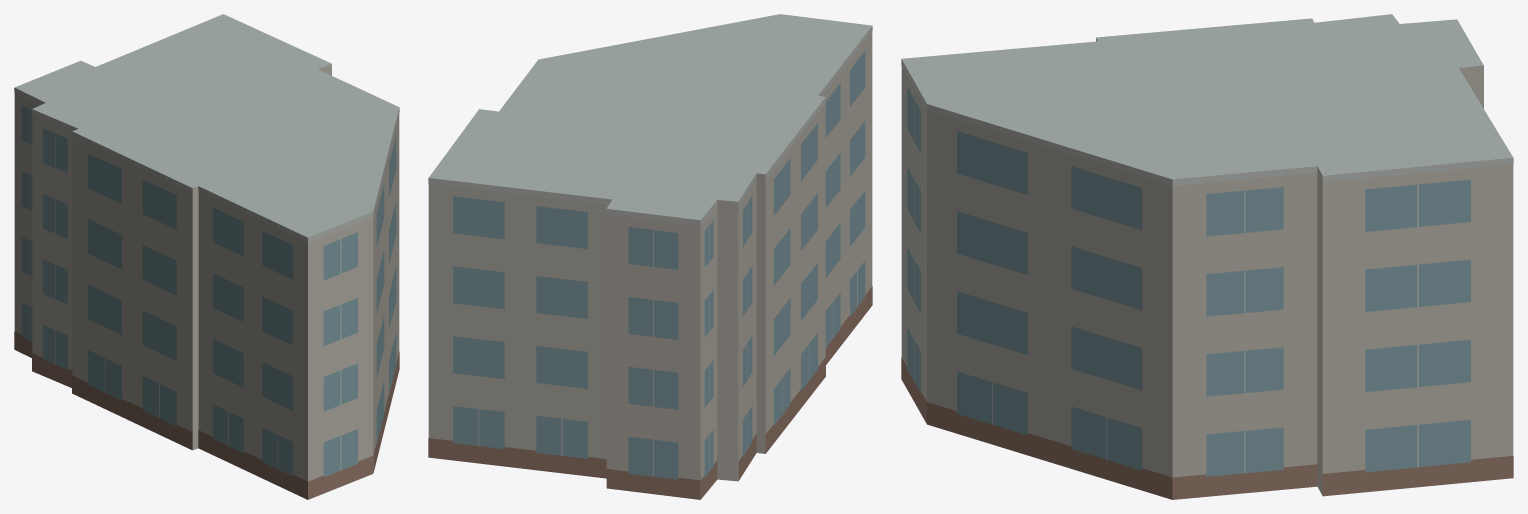
Rendered from survey-upis-32813386.glb.
The picture shows the model from 3 angles, left to right: view 1: azimuth 30°, elevation 25°; view 2: azimuth 150°, elevation 25°; view 3: azimuth 270°, elevation 25°; orthographic projection. The views are drawn at different scales.
Visible parts, largest first — view 1: survey-upis-32813386.tmp; view 2: survey-upis-32813386.tmp; view 3: survey-upis-32813386.tmp.
Part boxes in pixels (x1,y1,x2,y2): survey-upis-32813386.tmp: (14, 14, 399, 499); survey-upis-32813386.tmp: (428, 14, 872, 499); survey-upis-32813386.tmp: (901, 14, 1513, 499).
Size of the model in its own units: 13.3 by 12 by 20.78.
